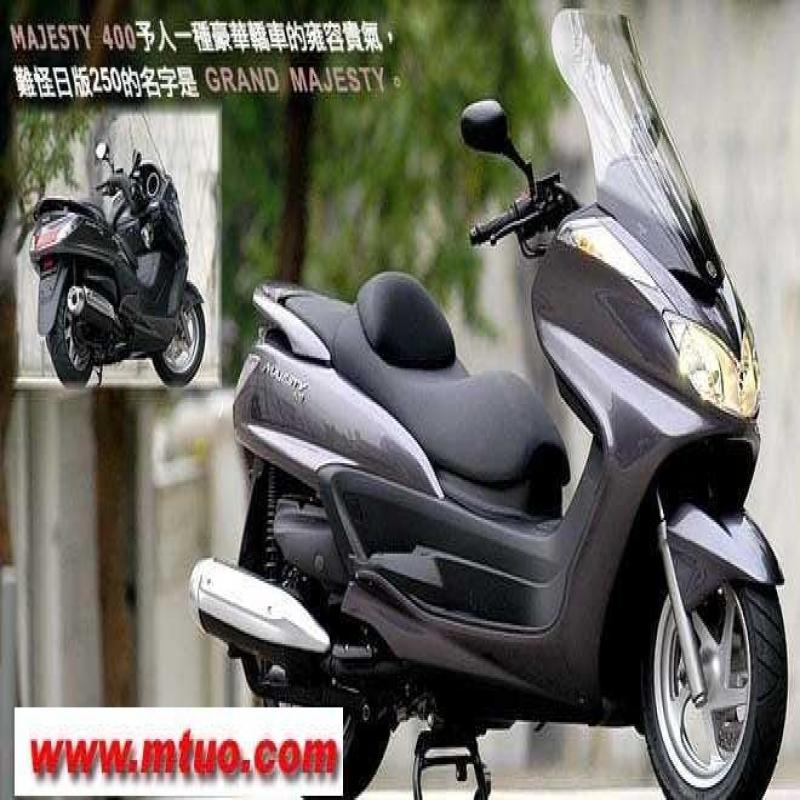bike: (200, 82, 788, 788)
